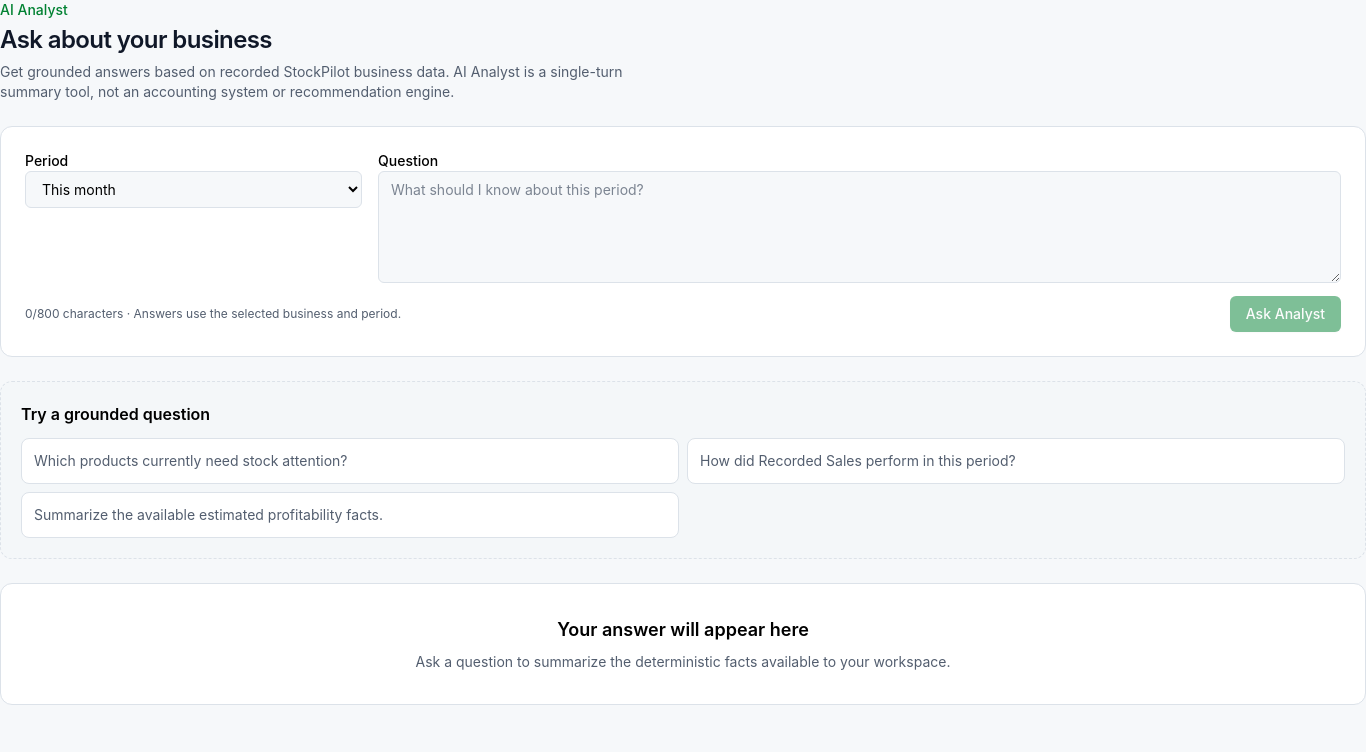
Test case: AnalystPage › rejects reversed custom dates without requesting Analyst
Select "Custom range" in the dropdown named "Analysis period" at (194, 190), box [25,171,362,208]
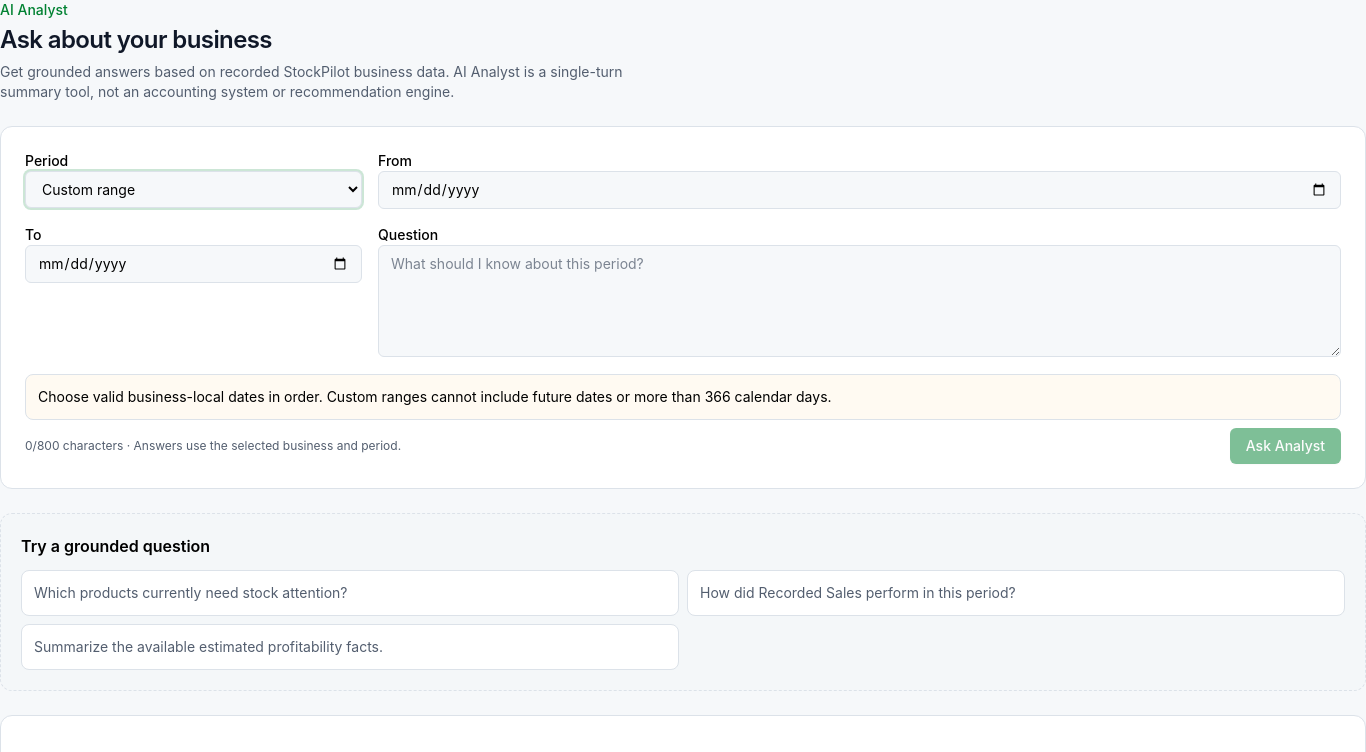
Type "2026-09-20" into the date field named "Analysis start date" at (860, 190), box [378,171,1341,209]
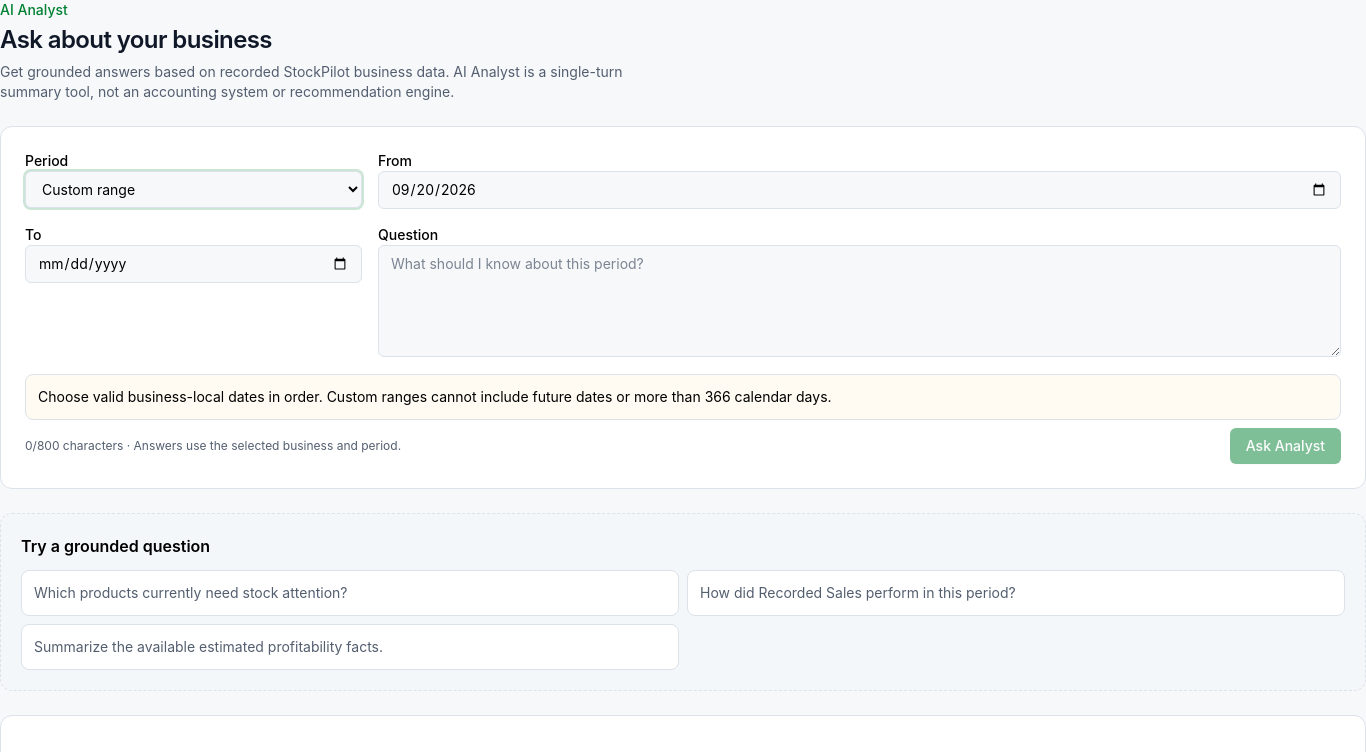
Type "2026-09-01" into the date field named "Analysis end date" at (194, 264), box [25,245,362,283]
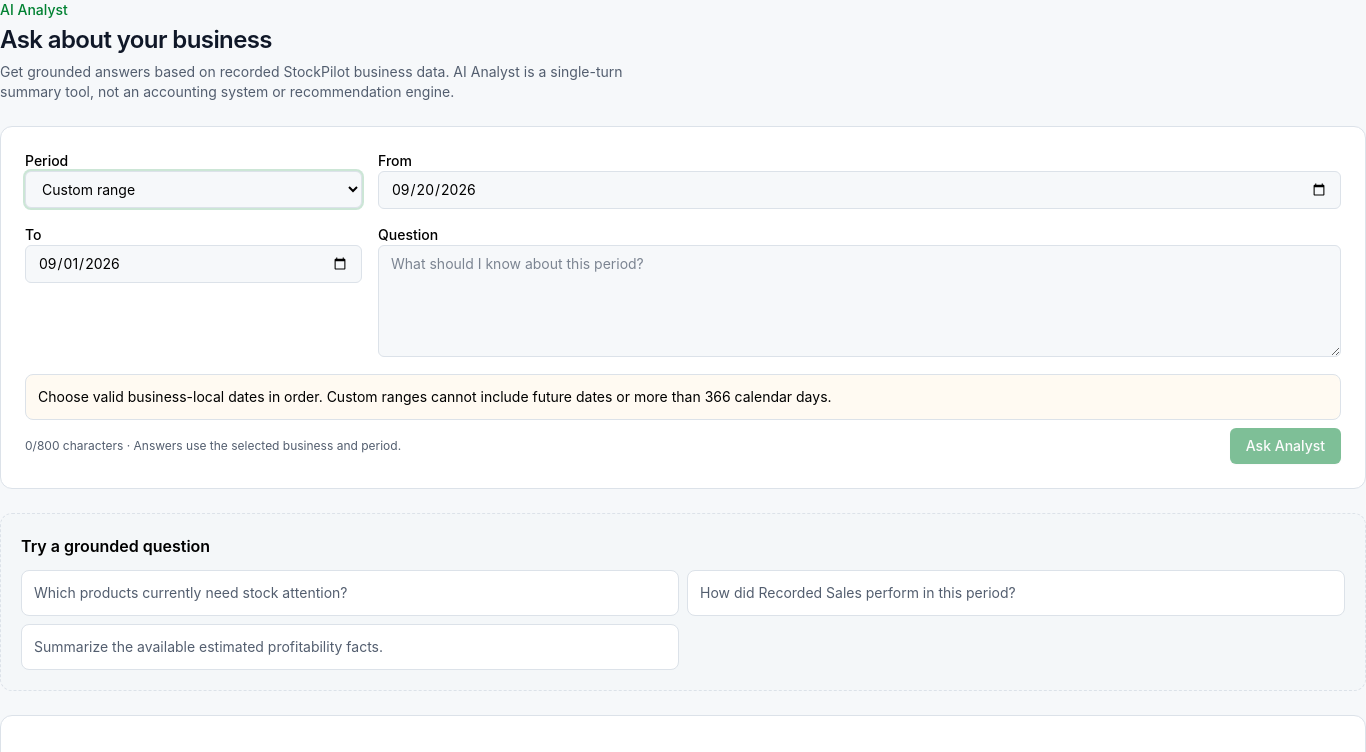
Type "What changed?" into the text box labelled "Question" at (860, 301), box [378,245,1341,357]
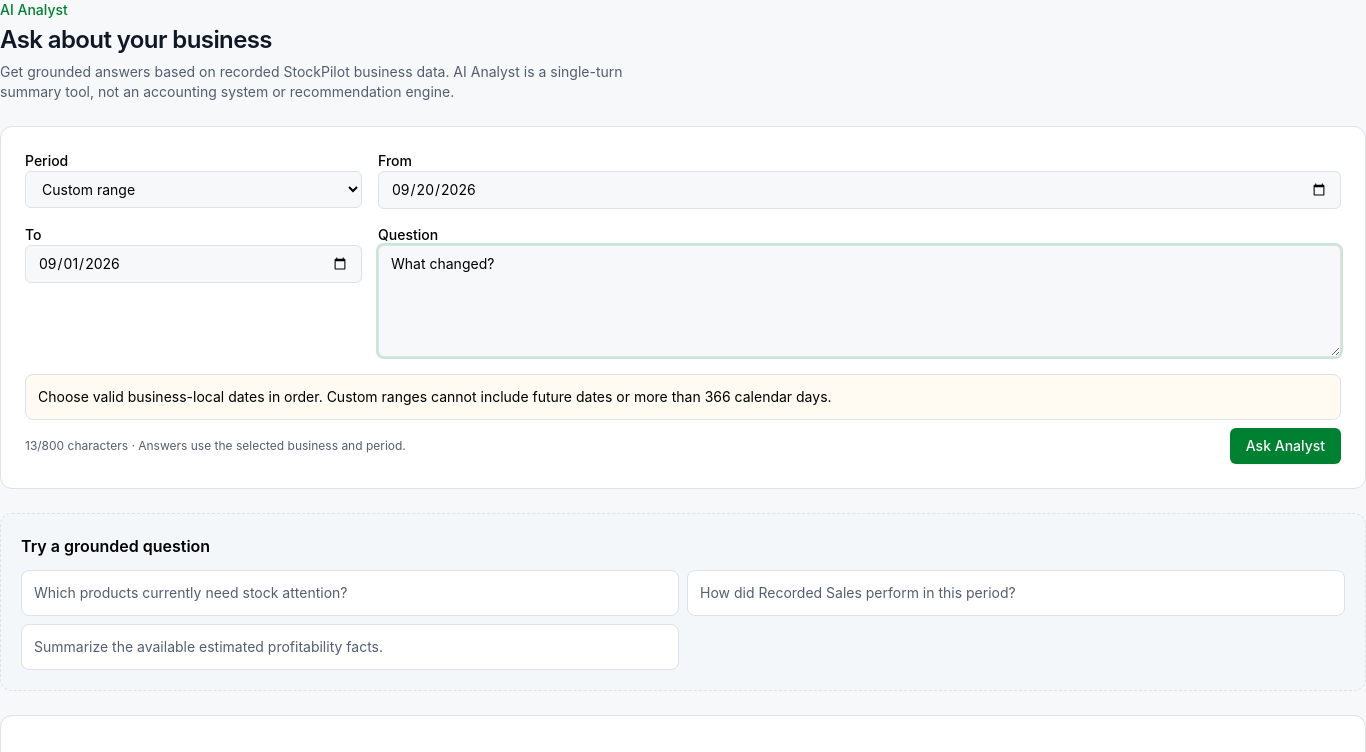
Click the button "Ask Analyst" at (1285, 446), box [1230,428,1341,464]
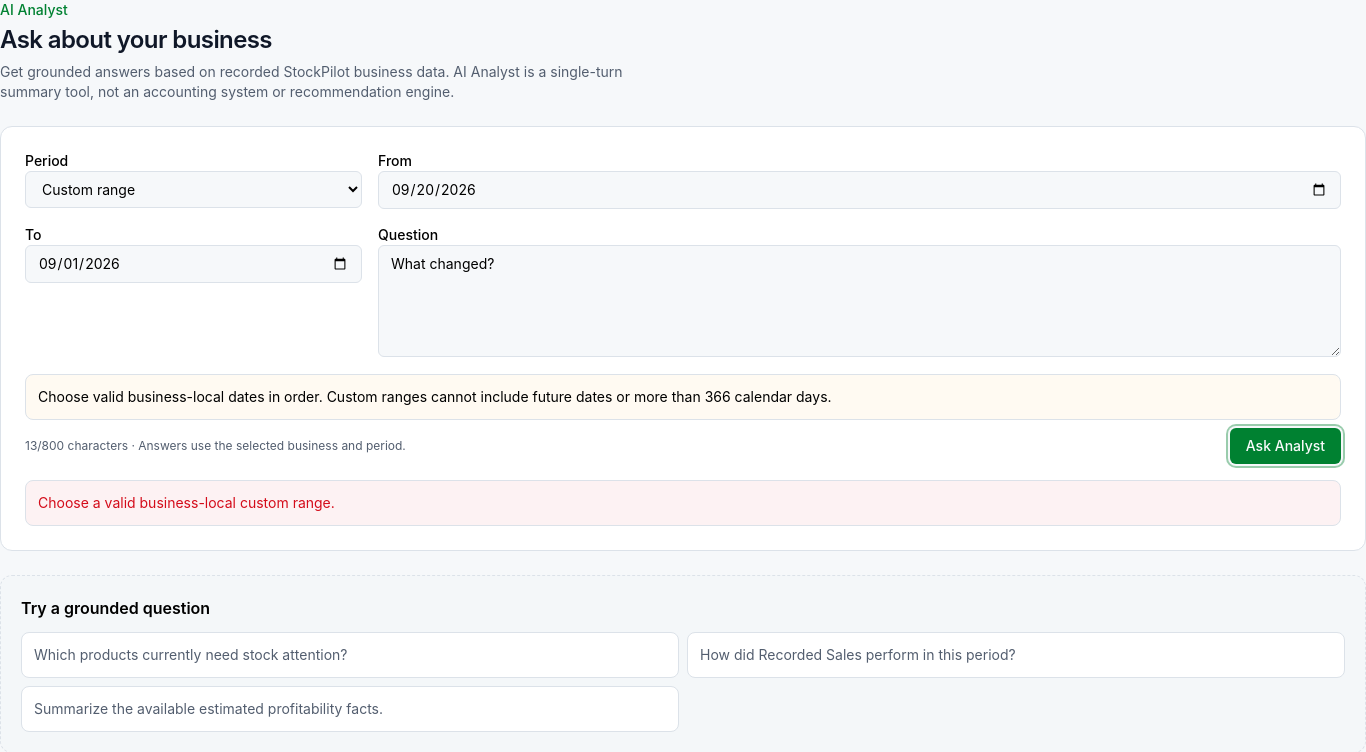
Check: the message "Choose a valid business-local custom range." is shown, box [25,480,1341,526]
